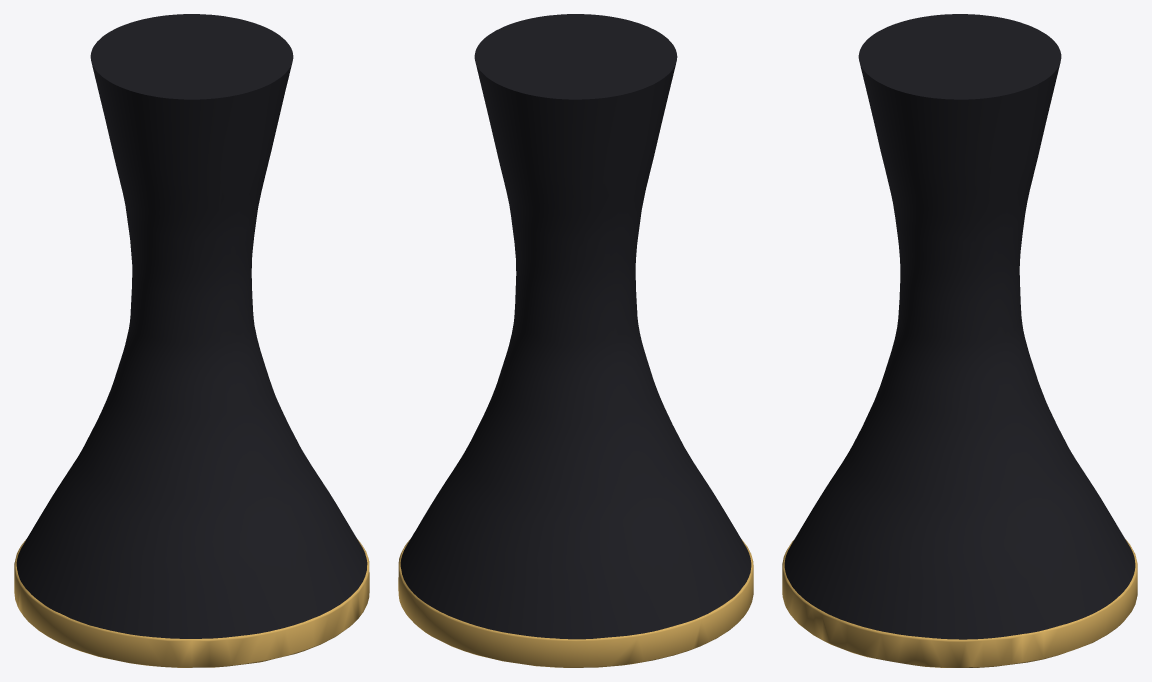
File: pawn-black.glb
3 views of the same model, side by side, from view 1: azimuth 30°, elevation 25°; view 2: azimuth 150°, elevation 25°; view 3: azimuth 270°, elevation 25° (orthographic).
Visible parts, largest first — view 1: 01_pesec_telo_0, 01_pesec_podstavec; view 2: 01_pesec_telo_0, 01_pesec_podstavec; view 3: 01_pesec_telo_0, 01_pesec_podstavec.
Boxes of the visible parts, bbox=[...] form: 01_pesec_telo_0: bbox=[16, 14, 367, 638]; 01_pesec_podstavec: bbox=[14, 539, 369, 667]; 01_pesec_telo_0: bbox=[400, 14, 751, 639]; 01_pesec_podstavec: bbox=[398, 539, 753, 667]; 01_pesec_telo_0: bbox=[784, 14, 1135, 639]; 01_pesec_podstavec: bbox=[782, 539, 1137, 667].
Size of the model in its own units: 0.6895 by 1.15 by 0.6895.
